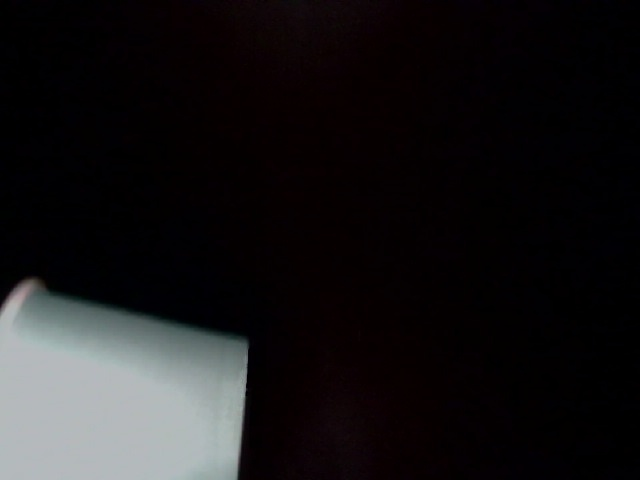CYLJ: (555, 312, 640, 427)
